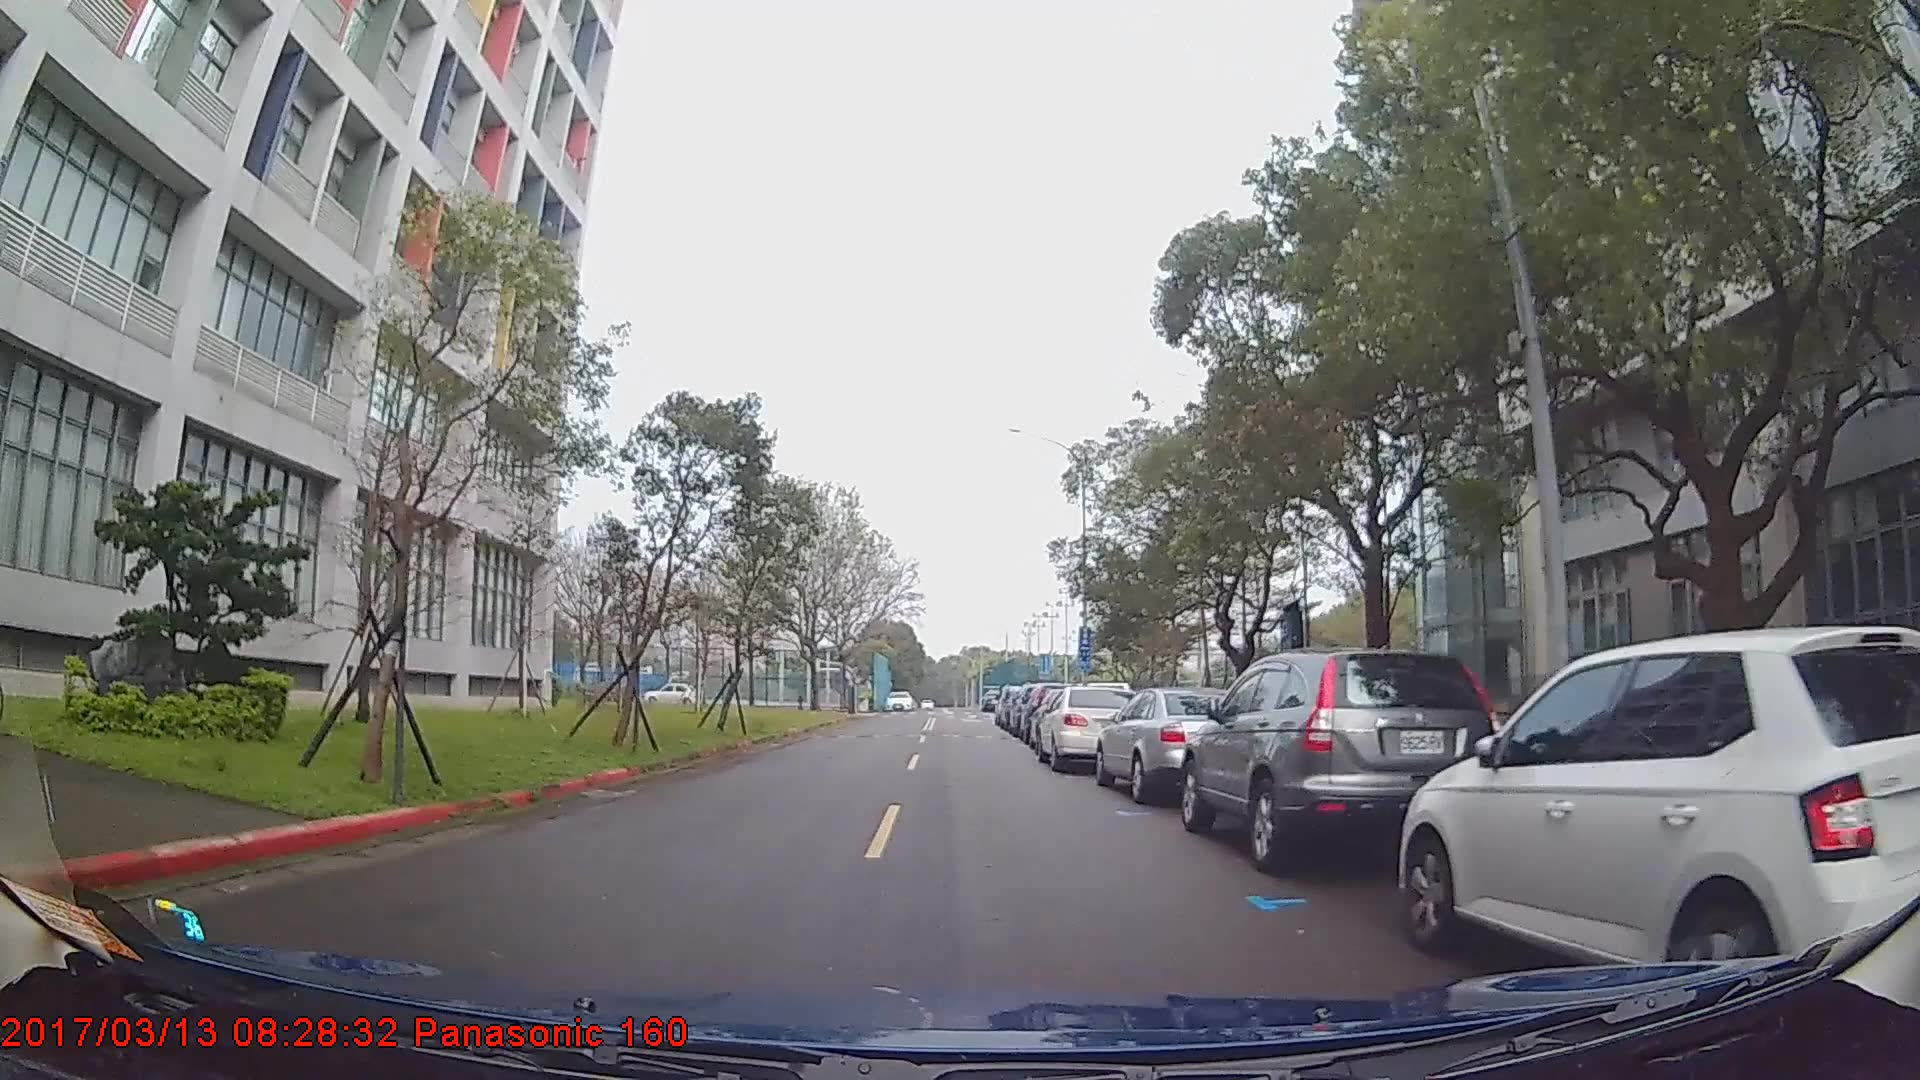vehicle: (1399, 622, 1920, 1002), (1182, 644, 1510, 873), (1092, 684, 1240, 802), (1035, 680, 1147, 771), (644, 678, 698, 705)
